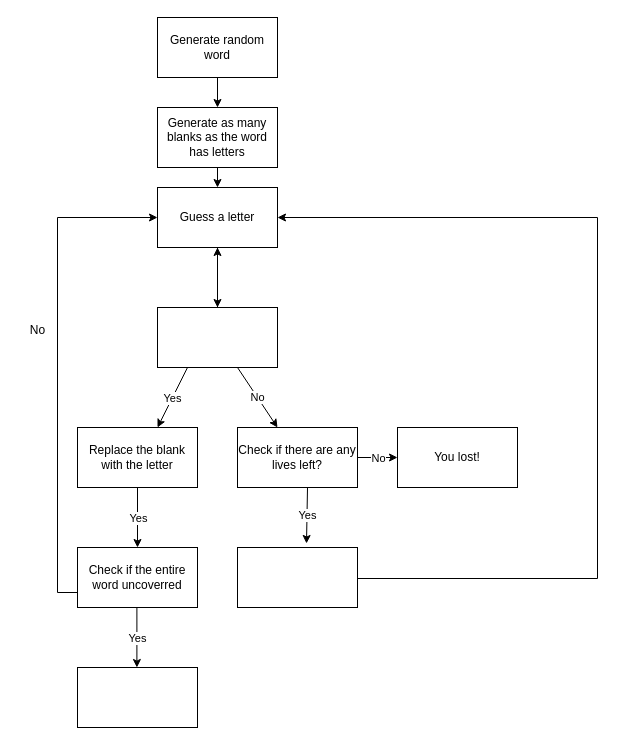
Some shapes in this 623 by 745 pixel diagram are drawn without their labels. The centre of each missing label's shape, as x and y in pixels:
"Check if the letter in the word?" goes at (217,337).
"Draw a figure" goes at (297,577).
"You won!" goes at (137,697).
